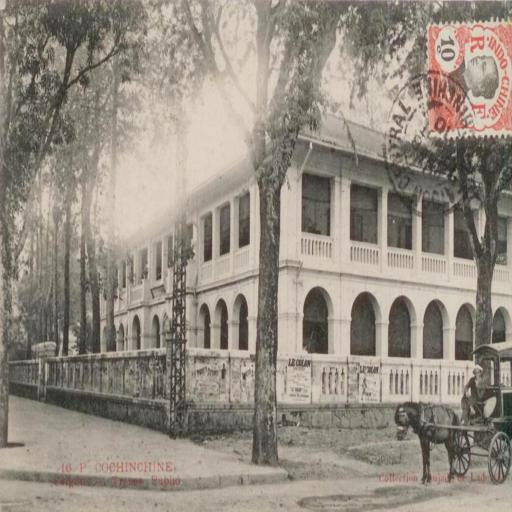horse: (394, 401, 460, 486)
